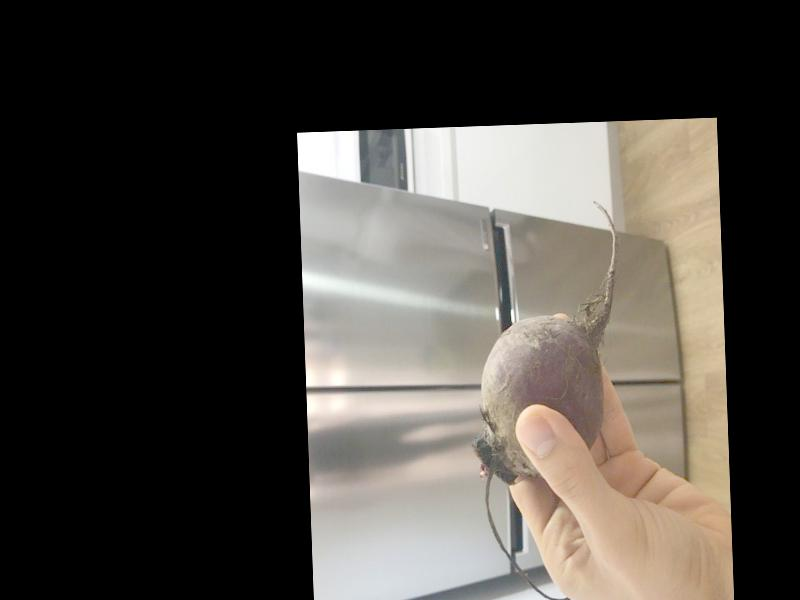Beet: (466, 197, 630, 600)
